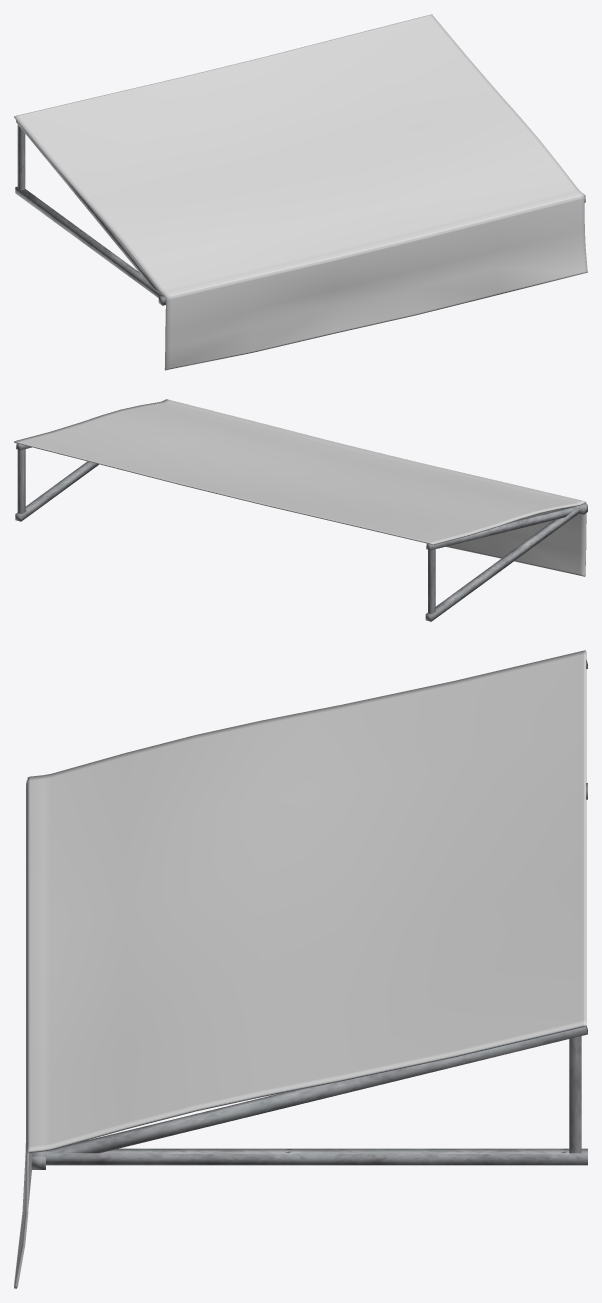
3 views of the same model, one above another, from view 1: azimuth 30°, elevation 25°; view 2: azimuth 150°, elevation 25°; view 3: azimuth 270°, elevation 25° (orthographic). The views are drawn at different scales.
Visible parts, largest first — view 1: Awning; view 2: Awning; view 3: Awning.
Boxes of the visible parts, box(x1,y1,x2,y2) form: Awning: box(14, 14, 587, 370); Awning: box(14, 399, 587, 621); Awning: box(14, 650, 587, 1288).
Bounding box in the file's own units: 3.81 × 1.28 × 2.44.
1 material, 1 textured.
